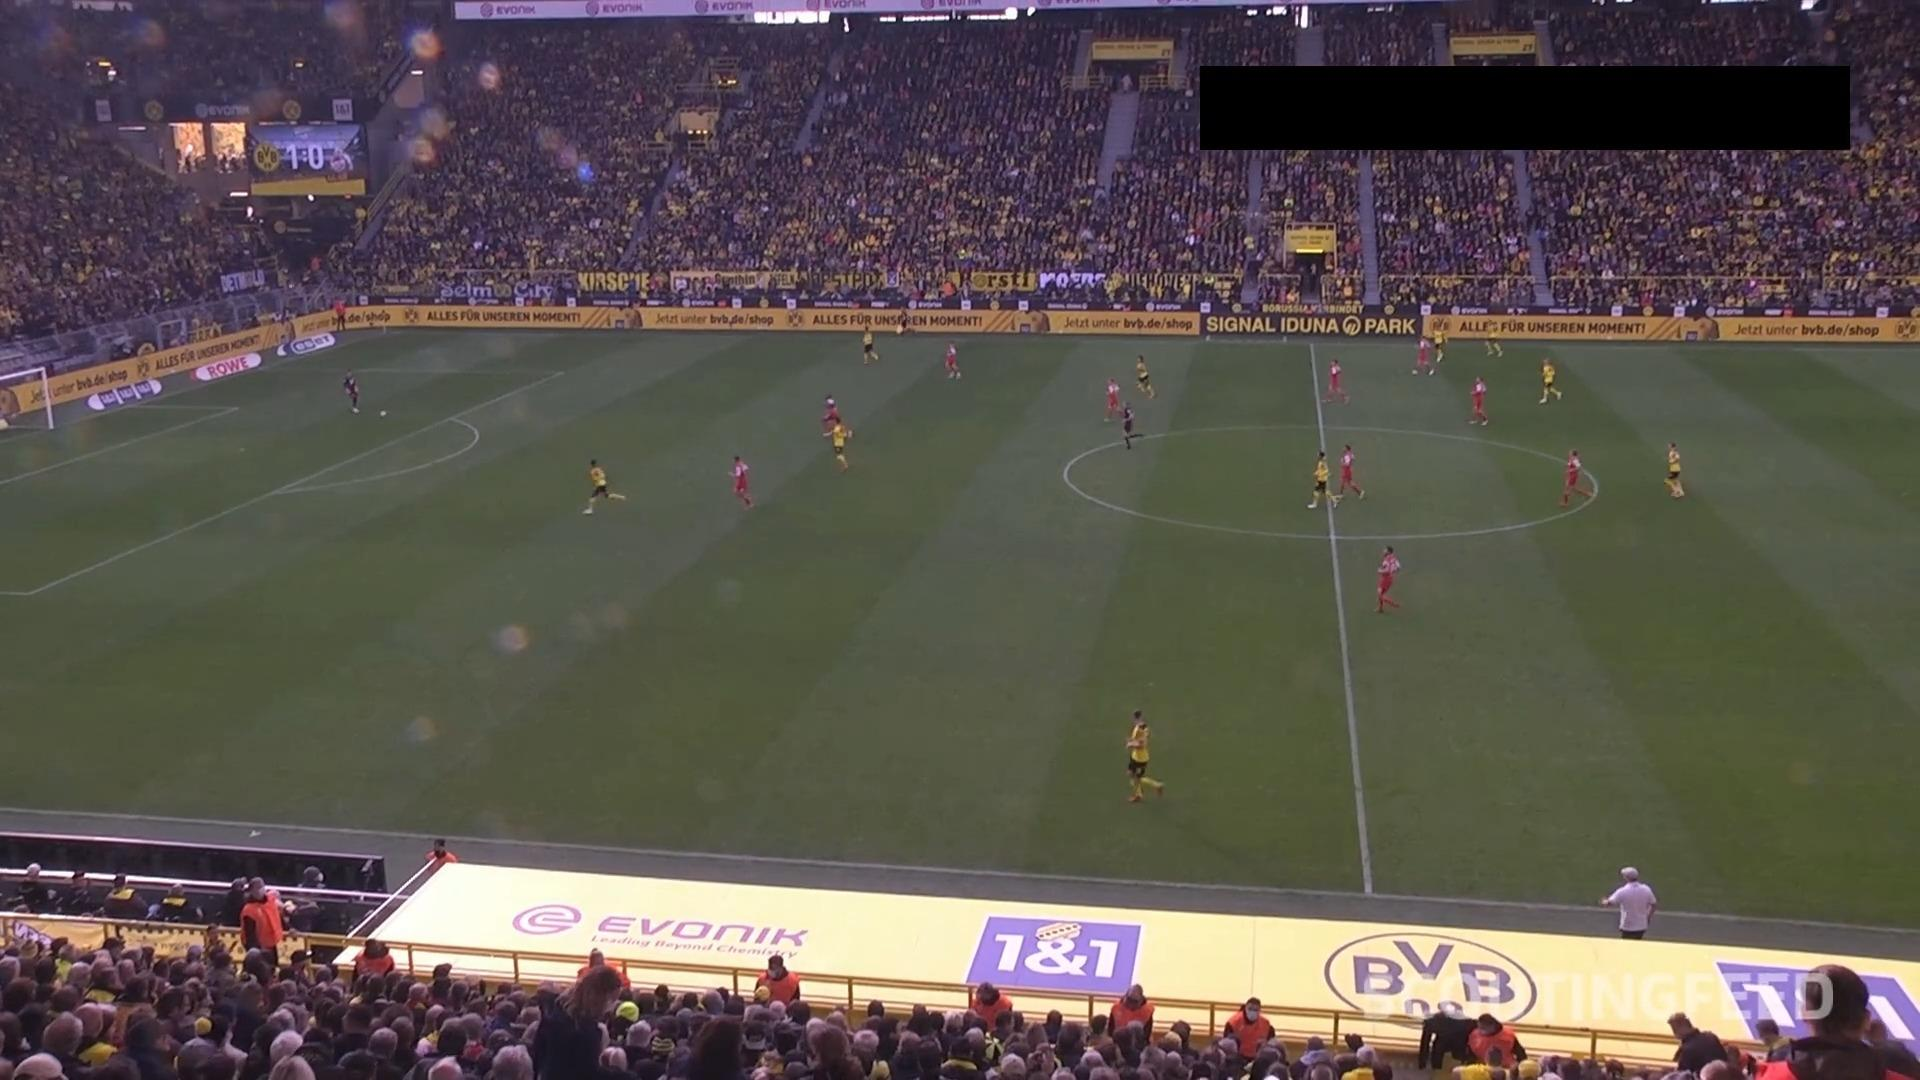ball: (378, 407, 388, 418)
